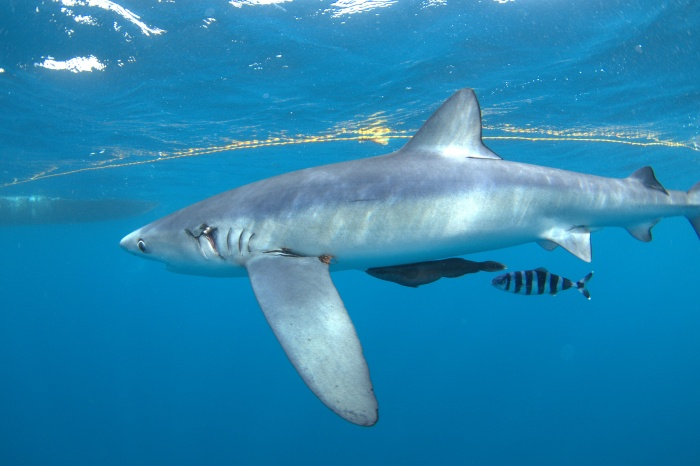Azul: (83, 70, 700, 420)
